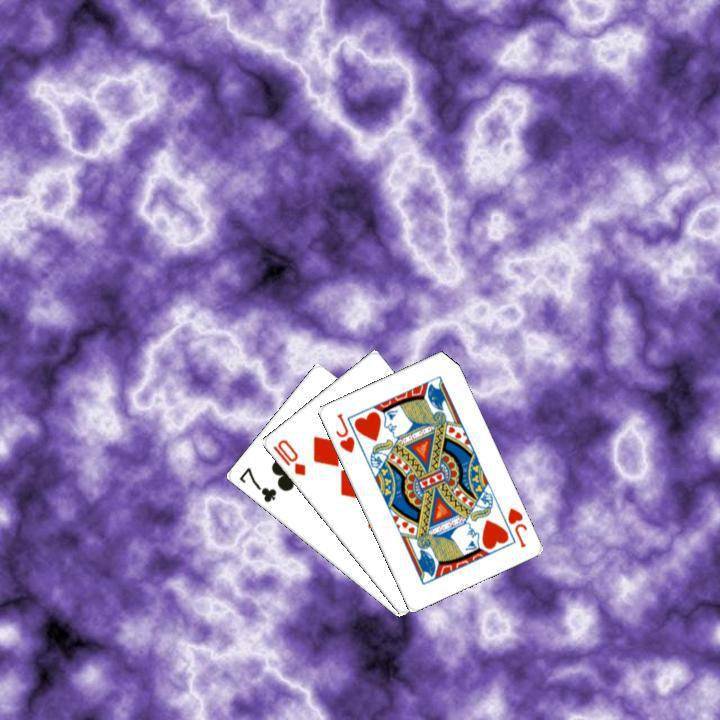10: (268, 435, 307, 478)
7: (234, 463, 278, 505)
J: (503, 503, 529, 549), (331, 409, 356, 455)
